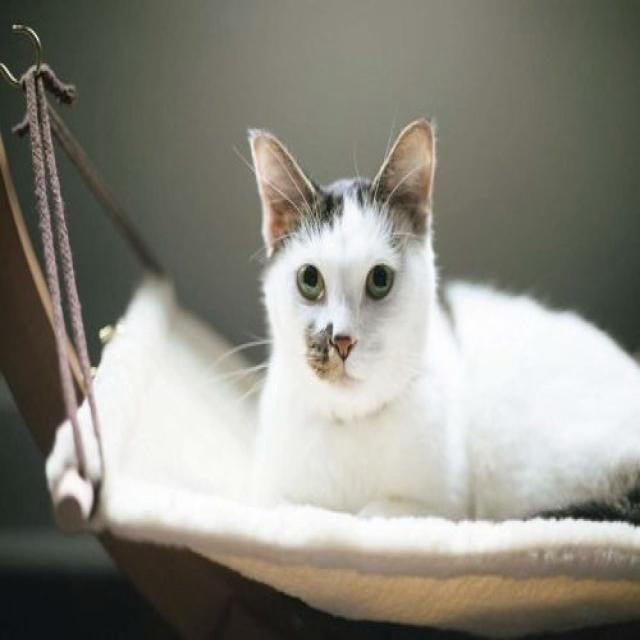cat: (250, 119, 640, 519)
